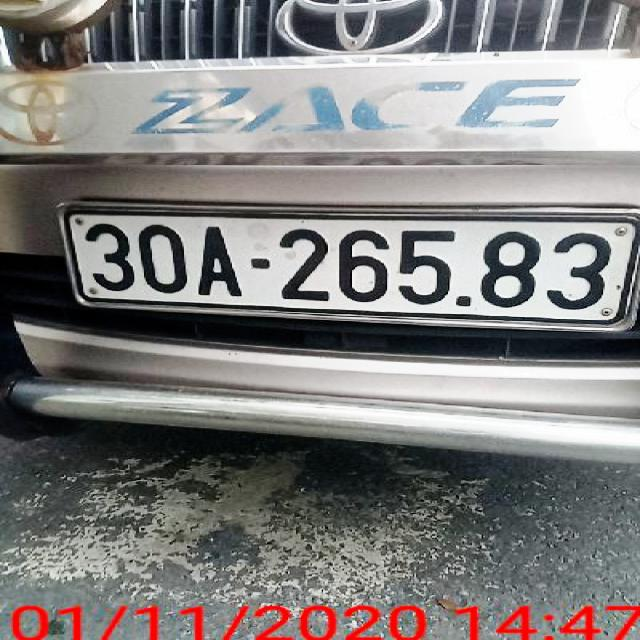license_plate: (60, 205, 640, 330)
